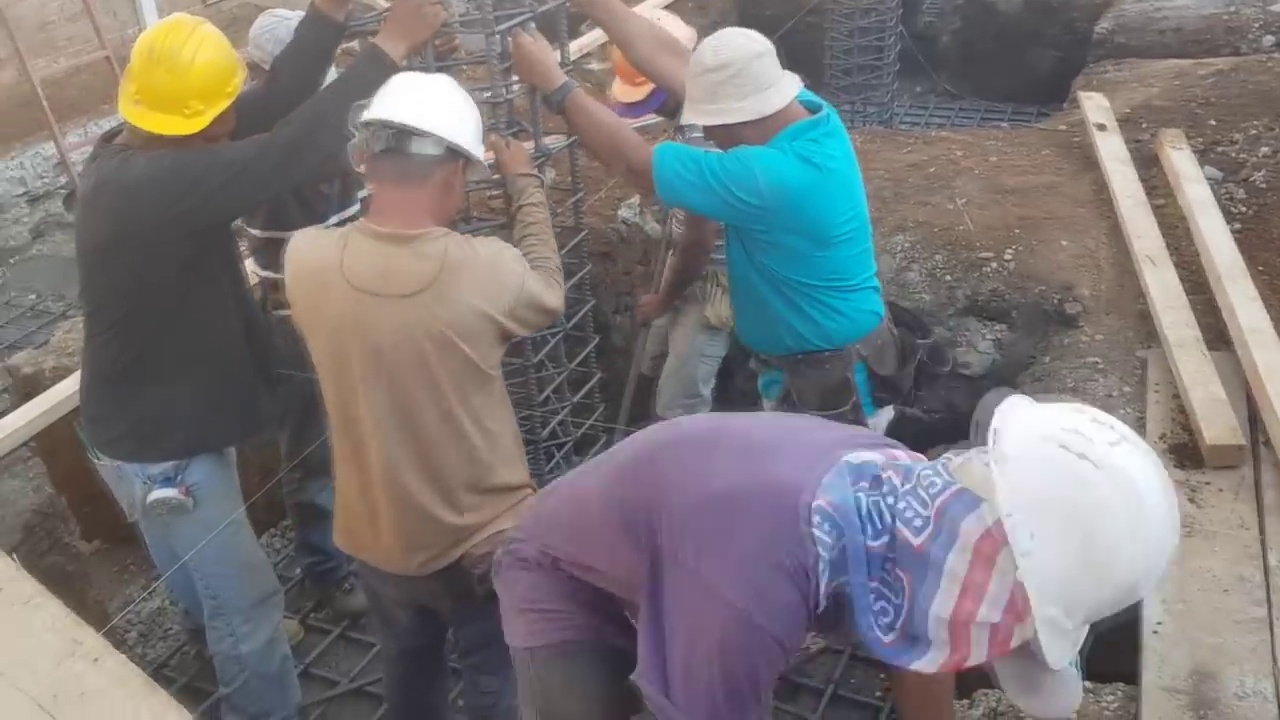helmet: (990, 383, 1188, 672), (109, 14, 238, 139), (346, 67, 492, 175), (605, 7, 699, 105)
helmet-off: (679, 25, 817, 152), (232, 9, 306, 93)
helmet-on: (816, 387, 1186, 708), (341, 60, 490, 244), (97, 11, 247, 161), (601, 6, 707, 140)
person: (497, 329, 1198, 720), (69, 0, 360, 720), (272, 78, 584, 706), (513, 0, 895, 438), (593, 21, 749, 421), (200, 7, 362, 382)
